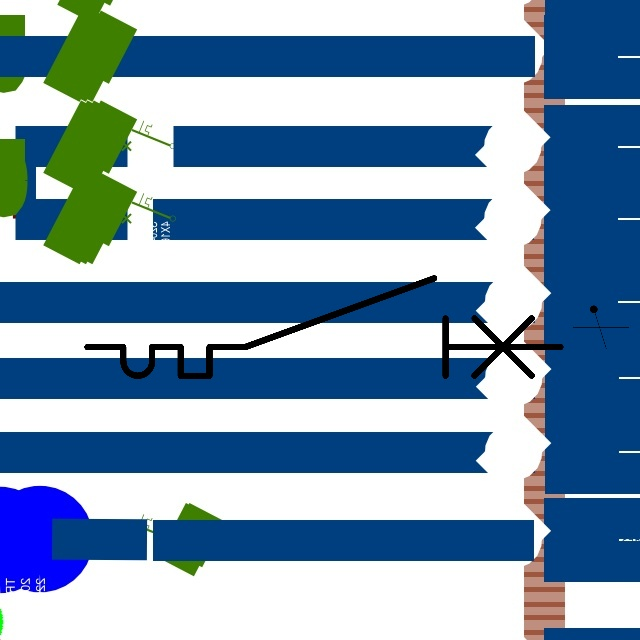interruptor_termomagnetico: (75, 266, 572, 388)
